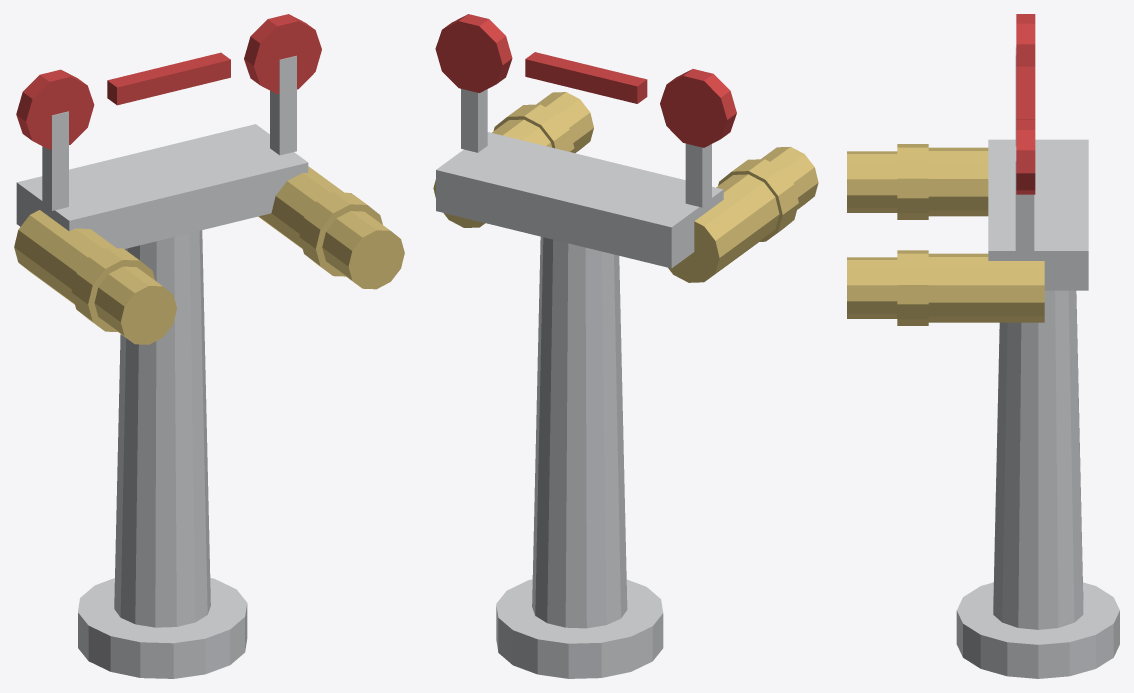
The model's file is fire-and-emergency-services-standpipe-9554c673__29906.glb.
3 views of the same model, side by side, from view 1: azimuth 30°, elevation 25°; view 2: azimuth 150°, elevation 25°; view 3: azimuth 270°, elevation 25° (orthographic). The views are drawn at different scales.
Visible parts, largest first — view 1: standpipe; view 2: standpipe; view 3: standpipe.
Part boxes in pixels (x1=…): standpipe: x1=14, y1=14, x2=404, y2=678; standpipe: x1=433, y1=14, x2=818, y2=678; standpipe: x1=847, y1=14, x2=1119, y2=678.
Size of the model in its own units: 0.5215 by 1.01 by 0.435.
